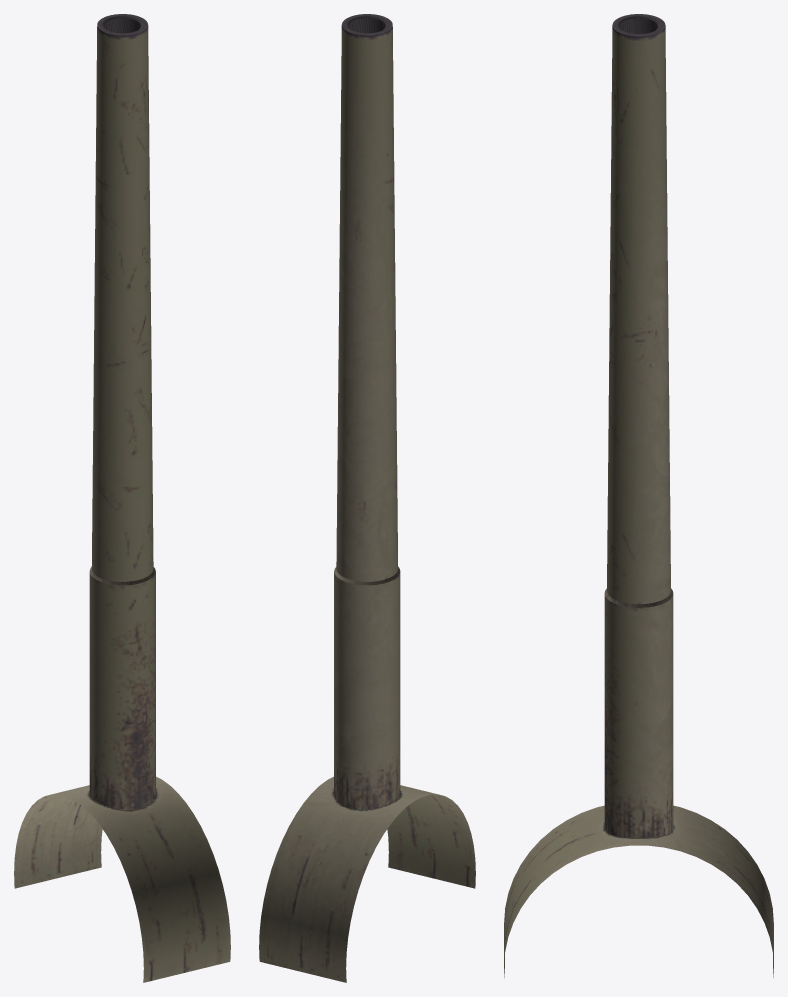
File: Gun_03.glb
The picture shows the model from 3 angles, left to right: view 1: azimuth 30°, elevation 25°; view 2: azimuth 150°, elevation 25°; view 3: azimuth 270°, elevation 25°; orthographic projection. The views are drawn at different scales.
Visible parts, largest first — view 1: set_0_group_0; view 2: set_0_group_0; view 3: set_0_group_0.
Part boxes in pixels (x1,y1,x2,y2): set_0_group_0: [14, 14, 230, 982]; set_0_group_0: [259, 14, 475, 982]; set_0_group_0: [504, 14, 773, 977].
Size of the model in its own units: 0.4996 by 4.94 by 1.29.
Materials: 1 (1 with a texture image).
